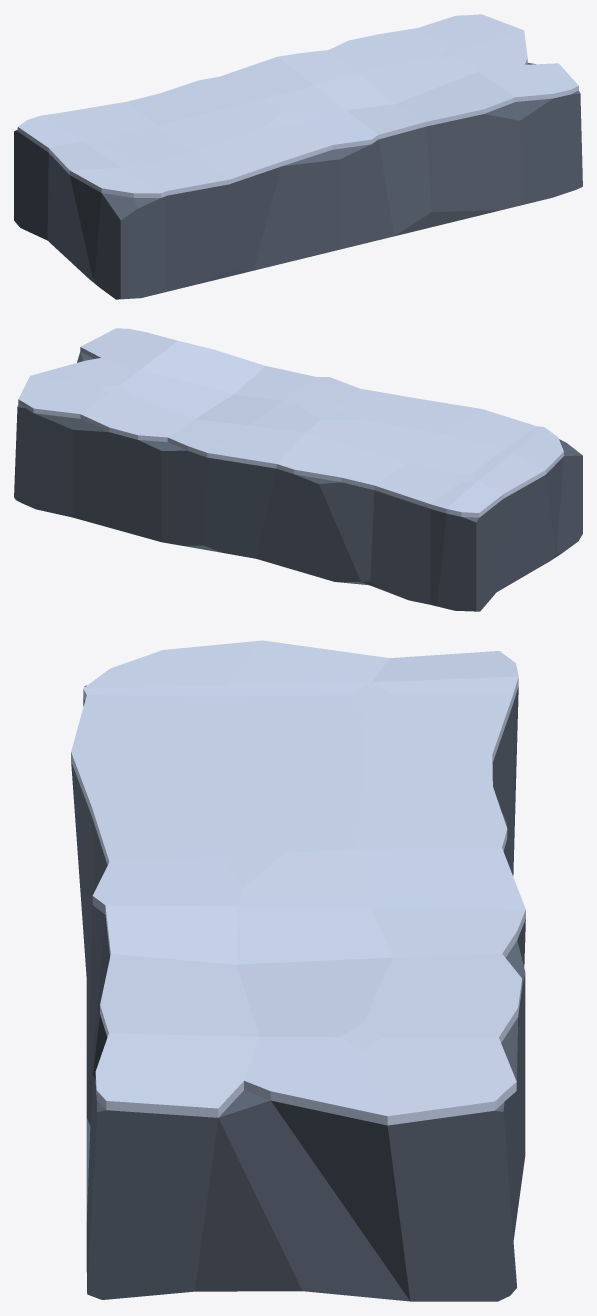
File: SnowPlatform(10x4x2).fbx
The picture shows the model from 3 angles, top to bottom: view 1: azimuth 30°, elevation 25°; view 2: azimuth 150°, elevation 25°; view 3: azimuth 270°, elevation 25°; orthographic projection. The views are drawn at different scales.
Visible parts, largest first — view 1: rock; view 2: rock; view 3: rock.
Part boxes in pixels (x1,y1,x2,y2): rock: (14,14,582,299); rock: (14,328,582,611); rock: (71,640,525,1301).
Size of the model in its own units: 1051 by 215 by 427.
